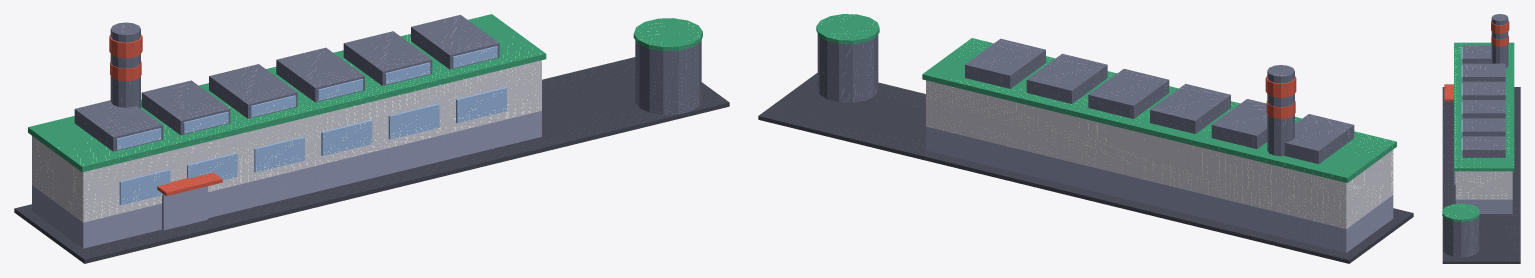
File: ind-5x1-l1.glb
3 renders of one model, left to right at view 1: azimuth 30°, elevation 25°; view 2: azimuth 150°, elevation 25°; view 3: azimuth 270°, elevation 25°, orthographic. The views are drawn at different scales.
Visible parts, largest first — view 1: ind-5x1-l1; view 2: ind-5x1-l1; view 3: ind-5x1-l1.
Part boxes in pixels (x1,y1,x2,y2): ind-5x1-l1: (14, 14, 729, 263); ind-5x1-l1: (758, 14, 1413, 263); ind-5x1-l1: (1442, 14, 1520, 263).
Bounding box in the file's own units: 9.86 × 2.55 × 1.87.
1 material, 1 textured.
